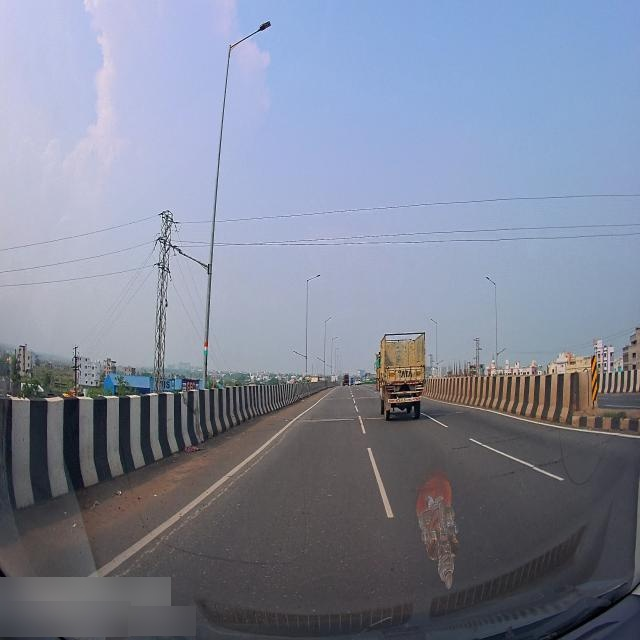pothole: (290, 414, 386, 422)
